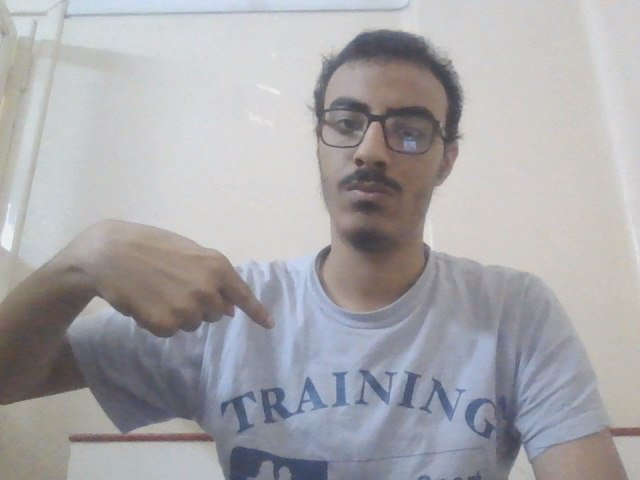Me: (66, 199, 287, 362)
